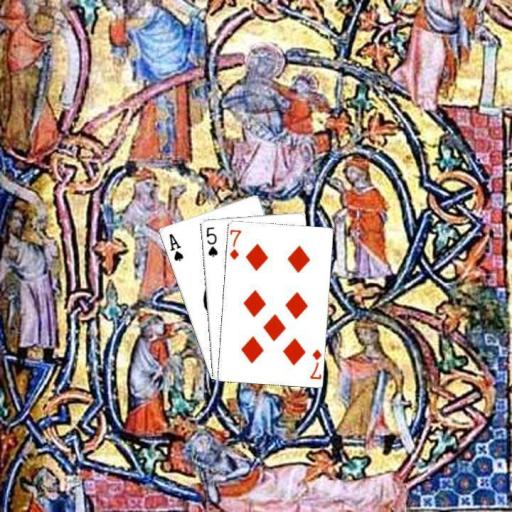card-corner: (166, 230, 184, 262), (203, 223, 218, 258), (227, 226, 242, 261), (307, 346, 322, 380)
